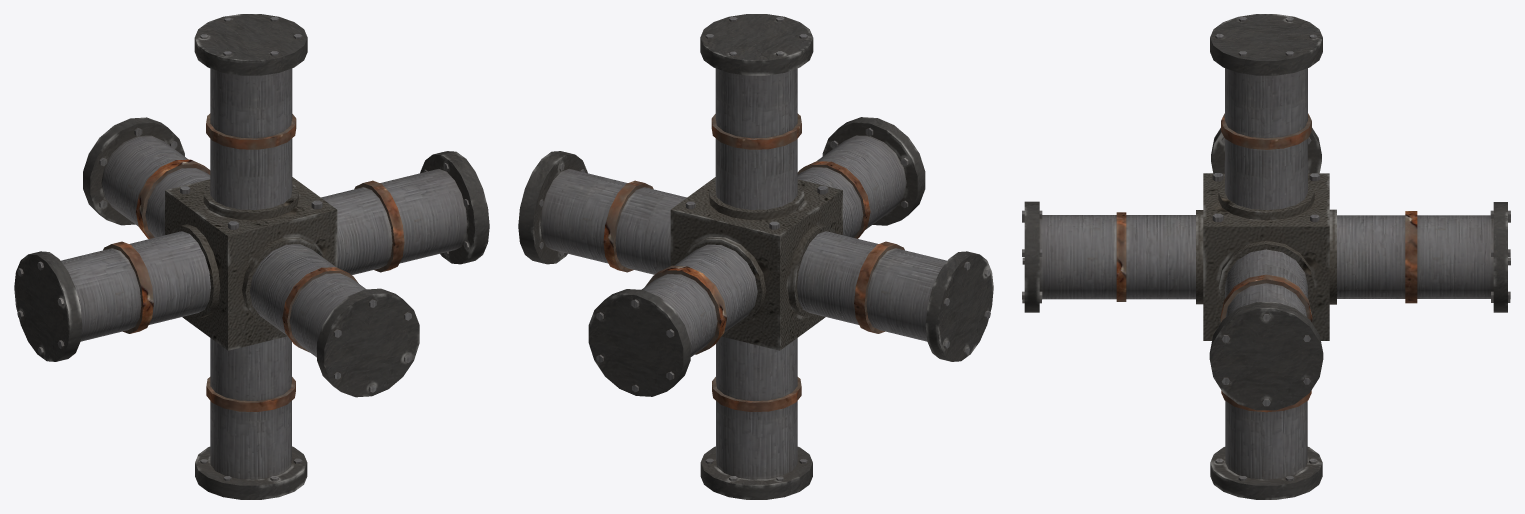
Rendered from fePipe_HD.fbx.
3 views of the same model, side by side, from view 1: azimuth 30°, elevation 25°; view 2: azimuth 150°, elevation 25°; view 3: azimuth 270°, elevation 25° (orthographic).
Visible parts, largest first — view 1: FeArm_PX, FeArm_PY, FeArm_PZ, fePipe_Core, FeArm_NX, FeArm_NY, FeArm_NZ; view 2: FeArm_PX, FeArm_PY, FeArm_NZ, fePipe_Core, FeArm_NX, FeArm_NY, FeArm_PZ; view 3: FeArm_PY, FeArm_PZ, FeArm_NZ, FeArm_NX, fePipe_Core, FeArm_NY, FeArm_PX.
Boxes of the visible parts, left/top/right/bottom form: FeArm_PX: left=14, top=231, right=210, bottom=361; FeArm_PY: left=194, top=14, right=307, bottom=209; FeArm_PZ: left=250, top=244, right=419, bottom=397; fePipe_Core: left=165, top=177, right=337, bottom=350; FeArm_NX: left=321, top=151, right=489, bottom=274; FeArm_NY: left=195, top=336, right=307, bottom=499; FeArm_NZ: left=83, top=117, right=210, bottom=238; FeArm_PX: left=797, top=231, right=993, bottom=361; FeArm_PY: left=700, top=14, right=813, bottom=209; FeArm_NZ: left=588, top=244, right=757, bottom=396; fePipe_Core: left=670, top=177, right=842, bottom=350; FeArm_NX: left=518, top=151, right=686, bottom=274; FeArm_NY: left=700, top=336, right=812, bottom=499; FeArm_PZ: left=797, top=117, right=925, bottom=238; FeArm_PY: left=1210, top=14, right=1322, bottom=209; FeArm_PZ: left=1022, top=201, right=1195, bottom=312; FeArm_NZ: left=1337, top=202, right=1510, bottom=312; FeArm_NX: left=1209, top=249, right=1323, bottom=410; fePipe_Core: left=1196, top=173, right=1336, bottom=340; FeArm_NY: left=1210, top=390, right=1322, bottom=499; FeArm_PX: left=1211, top=128, right=1321, bottom=173.
Bounding box in the file's own units: 1.01 × 1.01 × 1.01.
2 materials, 1 textured.
